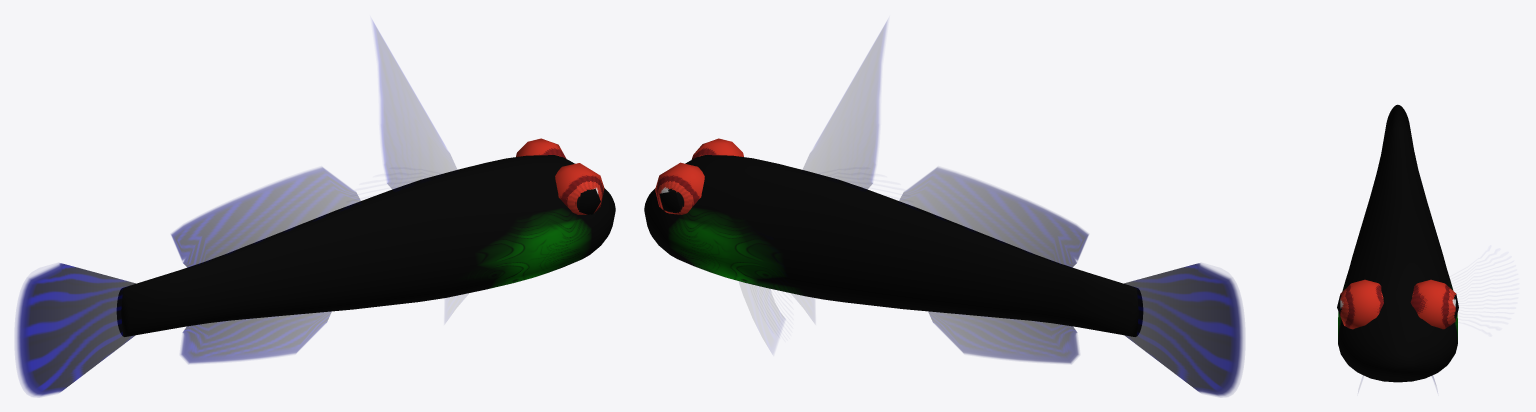
Rendered from mandarin_lod1.glb.
3 views of the same model, side by side, from view 1: azimuth 30°, elevation 25°; view 2: azimuth 150°, elevation 25°; view 3: azimuth 270°, elevation 25° (orthographic). The views are drawn at different scales.
Visible parts, largest first — view 1: Body, FinCaudal, FinDorsal2, FinDorsal, FinAnal, EyeR, EyeL; view 2: Body, FinCaudal, FinDorsal2, FinDorsal, FinAnal, EyeL, EyeR; view 3: Body, EyeL, EyeR.
Boxes of the visible parts, x1,y1,x2,y2 form: Body: (117,155,615,336); FinCaudal: (15,263,137,396); FinDorsal2: (171,167,361,268); FinDorsal: (373,22,458,191); FinAnal: (180,311,331,363); EyeR: (555,163,604,214); EyeL: (516,138,566,158); Body: (644,155,1142,336); FinCaudal: (1122,263,1244,396); FinDorsal2: (898,167,1088,268); FinDorsal: (801,22,886,191); FinAnal: (928,311,1079,363); EyeL: (655,162,704,214); EyeR: (691,138,743,159); Body: (1338,104,1457,382); EyeL: (1410,279,1458,329); EyeR: (1337,279,1383,329).
Bounding box in the file's own units: 1 × 0.5613 × 0.3703.
Materials: 4 (3 with a texture image).
